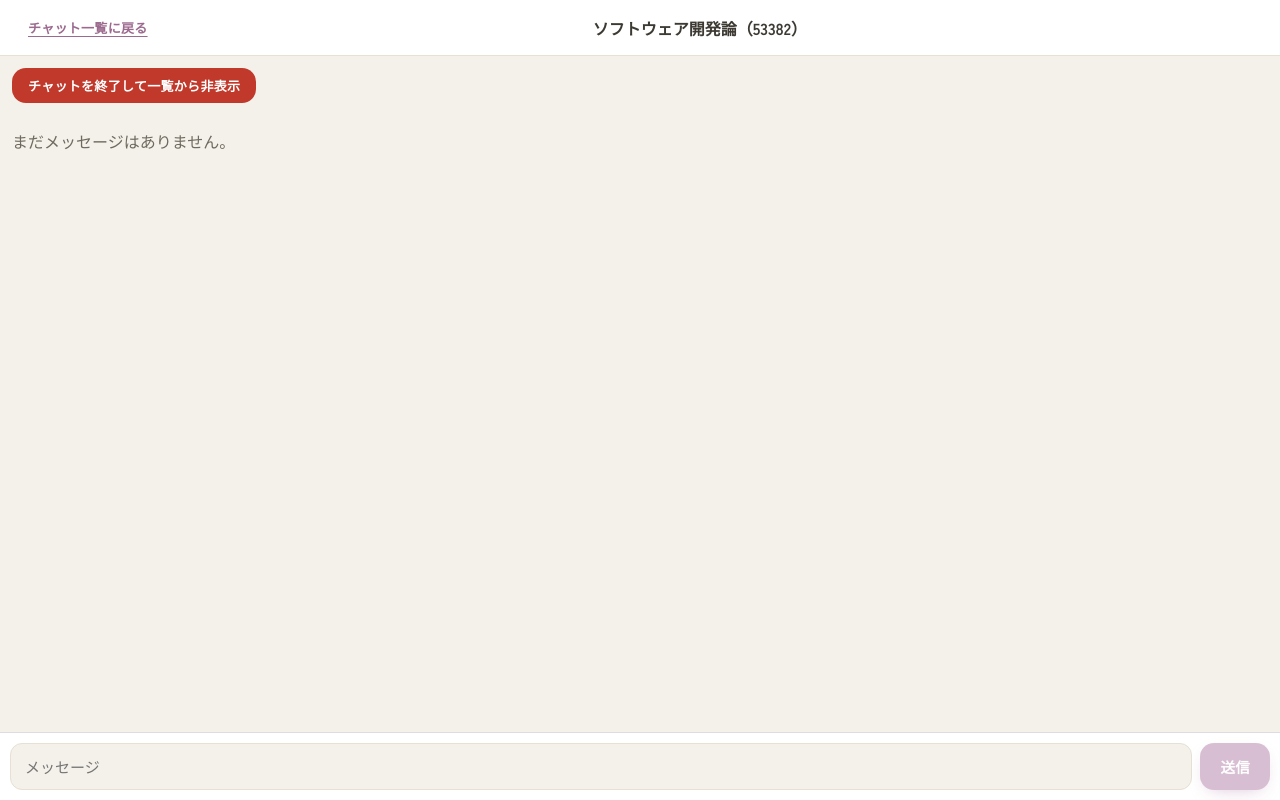
ChatPage › keeps the input when sending fails
The width and height of the screenshot is (1280, 800).
(page scrolled)
Type "残す本文" into the field with placeholder "メッセージ" at (601, 766), box [10, 743, 1192, 790]
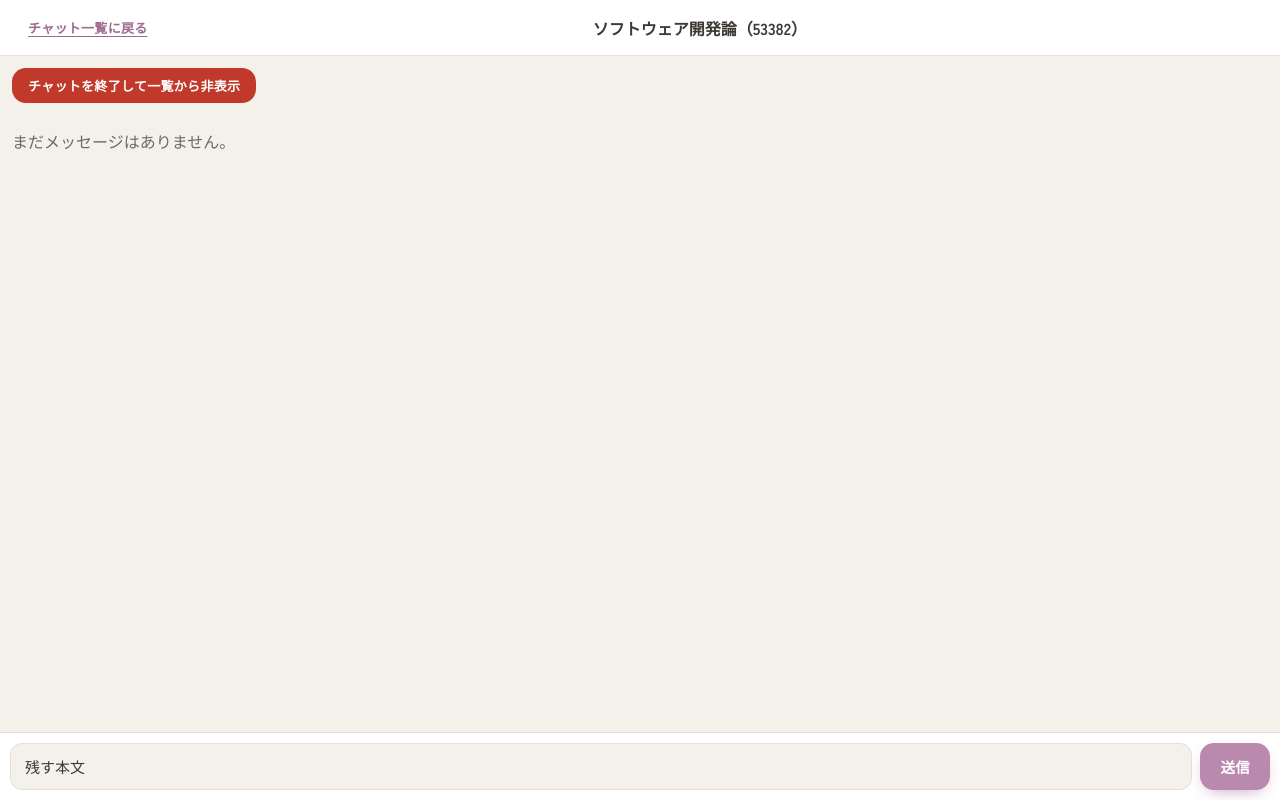
Click the button "送信" at (1235, 766), box [1200, 743, 1270, 790]
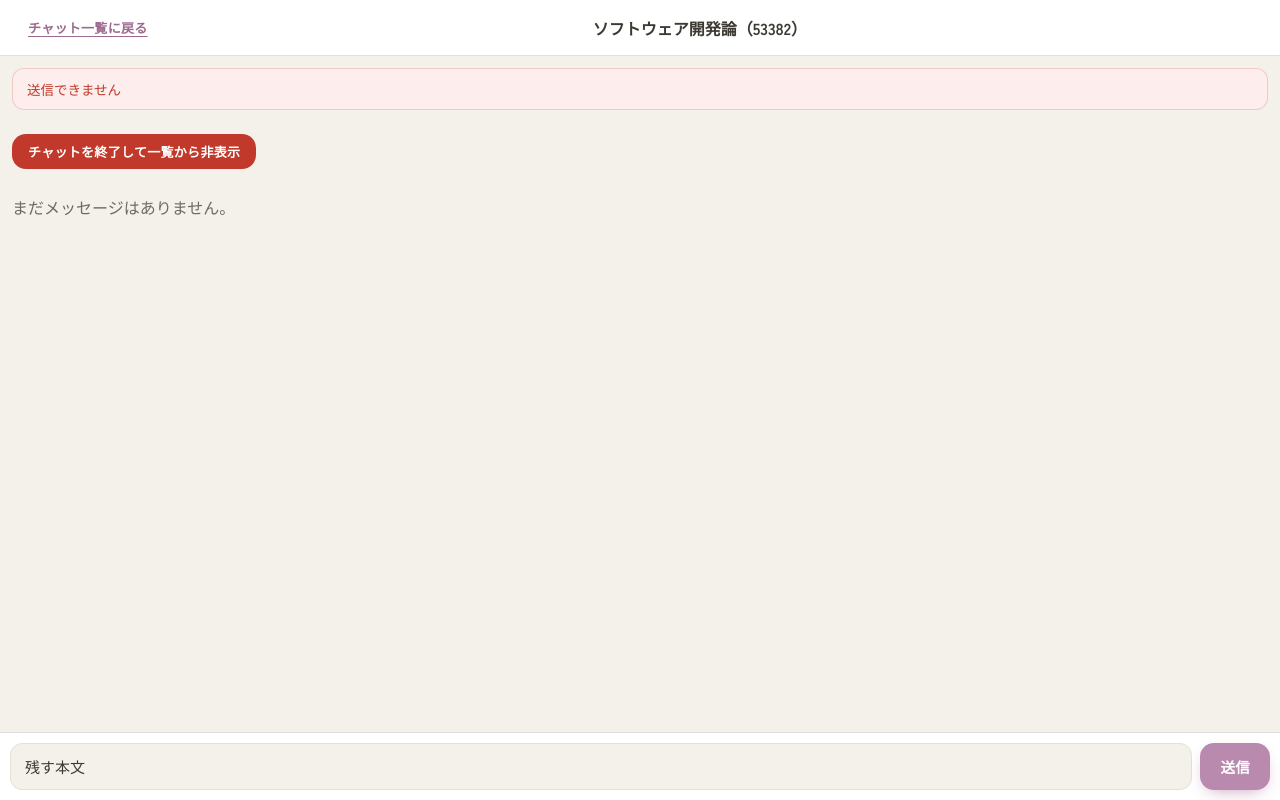
Expected: the text "送信できません" is shown, [12, 68, 1268, 110]
